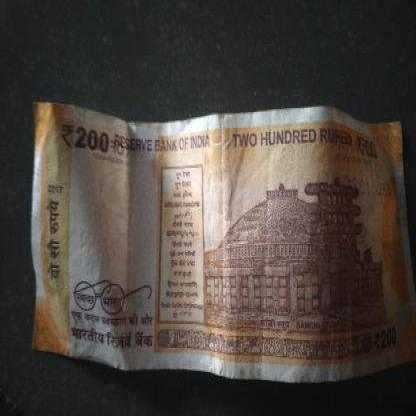New200Back: (32, 100, 404, 375)
